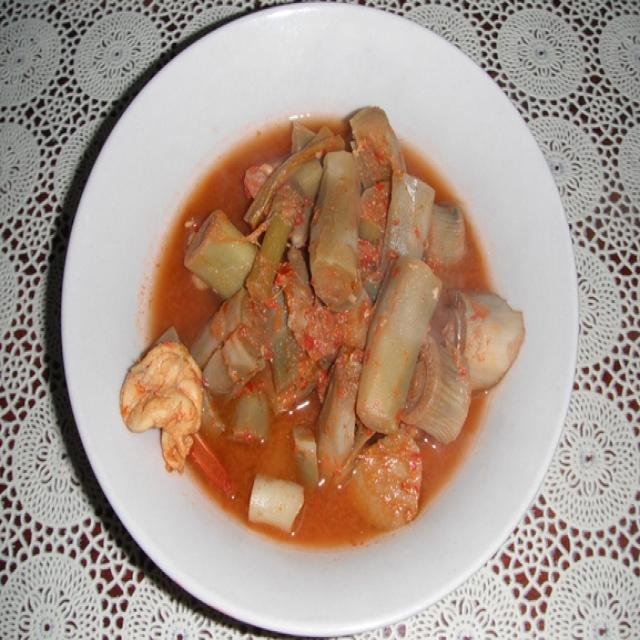汤锅炖物: (88, 24, 558, 615)
